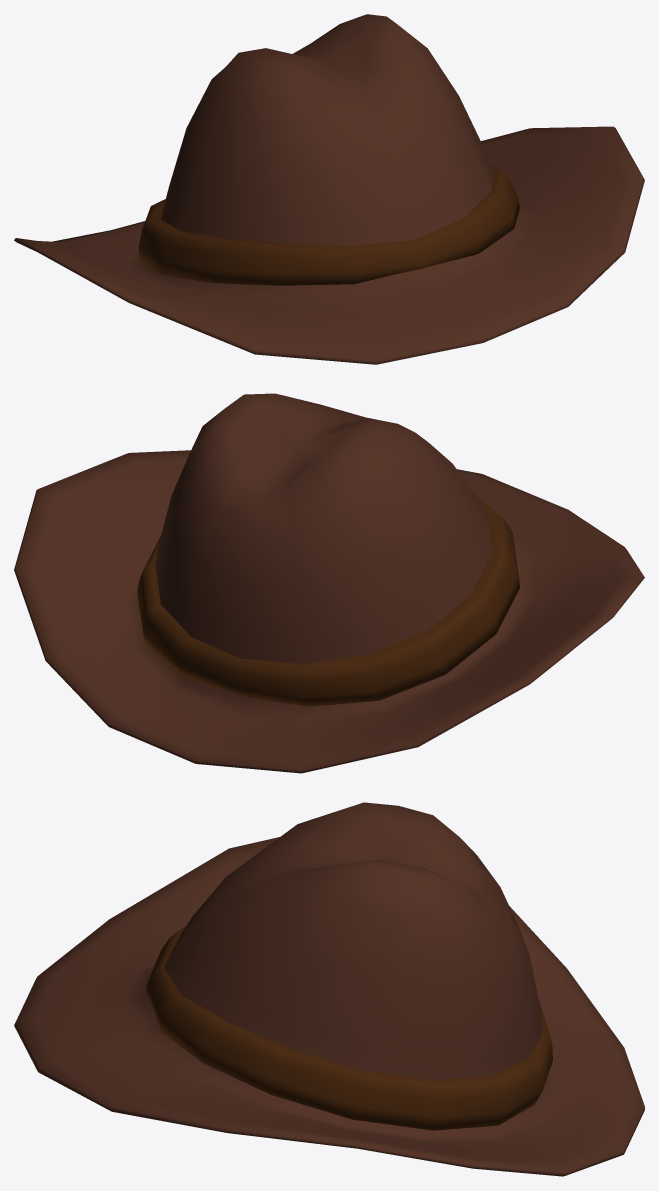
The model's file is indy-1.glb.
The picture shows the model from 3 angles, top to bottom: view 1: azimuth 30°, elevation 25°; view 2: azimuth 150°, elevation 25°; view 3: azimuth 270°, elevation 25°; orthographic projection. The views are drawn at different scales.
Visible parts, largest first — view 1: hat; view 2: hat; view 3: hat.
Boxes of the visible parts, x1,y1,x2,y2 form: hat: (14,14,644,364); hat: (14,393,644,773); hat: (14,802,644,1176).
Bounding box in the file's own units: 1.59 × 0.682 × 1.37.
